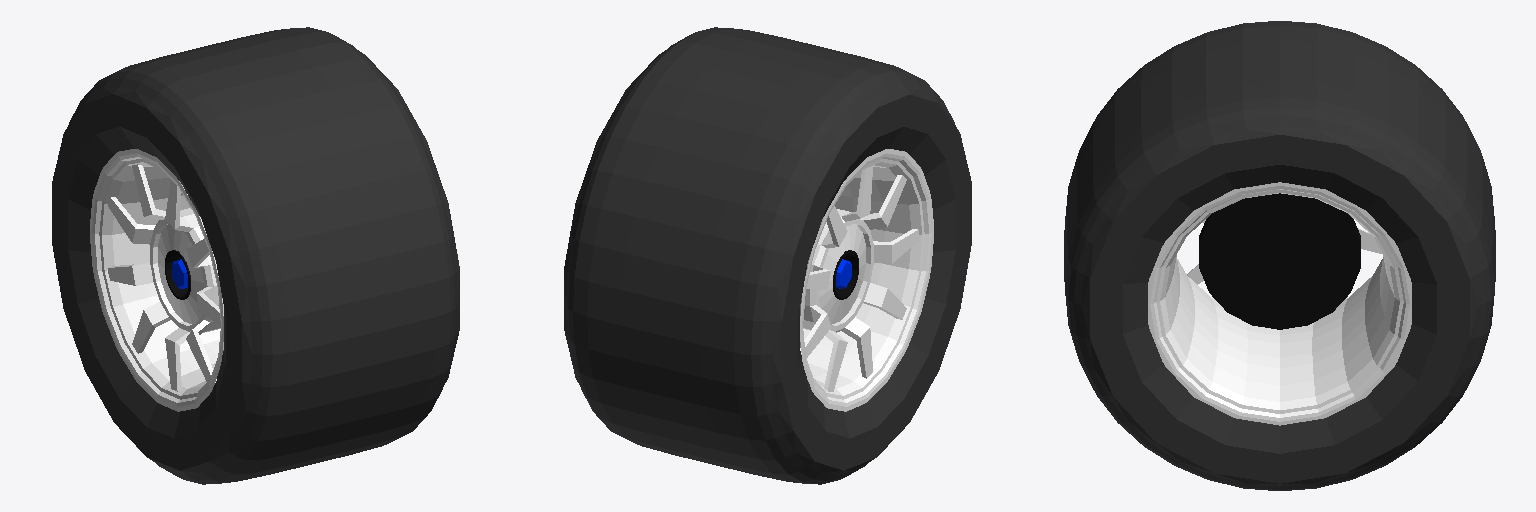
Rendered from wheel.obj.
3 renders of one model, left to right at view 1: azimuth 30°, elevation 25°; view 2: azimuth 150°, elevation 25°; view 3: azimuth 270°, elevation 25°, orthographic.
Visible parts, largest first — view 1: Cylinder02, Wheel_Rim, wheel, Wheel_Hub; view 2: Cylinder02, Wheel_Rim, wheel, Wheel_Hub; view 3: Cylinder02, Wheel_Rim, Wheel_Hub.
Boxes of the visible parts, <box> form: Cylinder02: <box>52,27,459,484</box>; Wheel_Rim: <box>90,149,223,411</box>; wheel: <box>108,164,223,391</box>; Wheel_Hub: <box>150,208,220,332</box>; Cylinder02: <box>564,27,971,484</box>; Wheel_Rim: <box>800,149,933,411</box>; wheel: <box>800,166,918,391</box>; Wheel_Hub: <box>803,209,873,332</box>; Cylinder02: <box>1064,21,1495,490</box>; Wheel_Rim: <box>1148,182,1411,425</box>; Wheel_Hub: <box>1199,193,1360,329</box>.
Bounding box in the file's own units: 1.8 × 3.08 × 3.08.